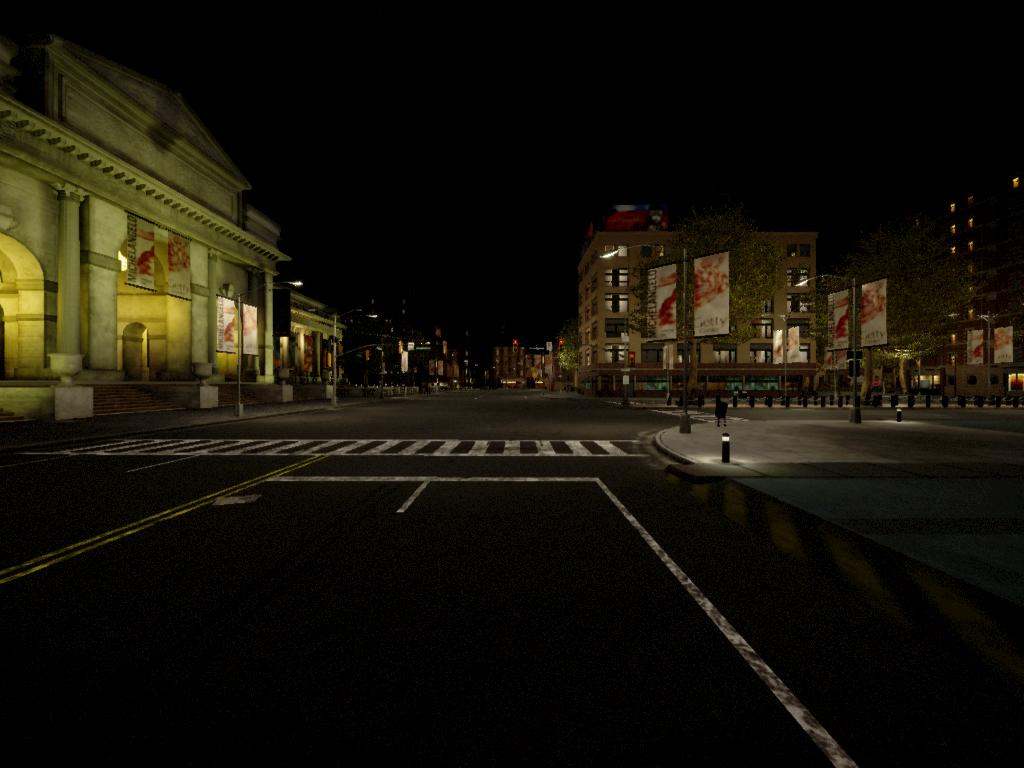traffic_light: (629, 352, 637, 367), (443, 342, 449, 355), (514, 340, 519, 354), (366, 350, 371, 362), (560, 340, 564, 353), (400, 342, 404, 354)
